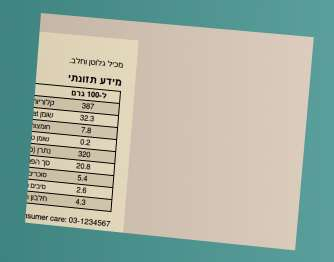carbs: (75, 161, 92, 172)
energy: (80, 101, 95, 112)
fat: (79, 113, 95, 124)
protein: (74, 197, 87, 208)
